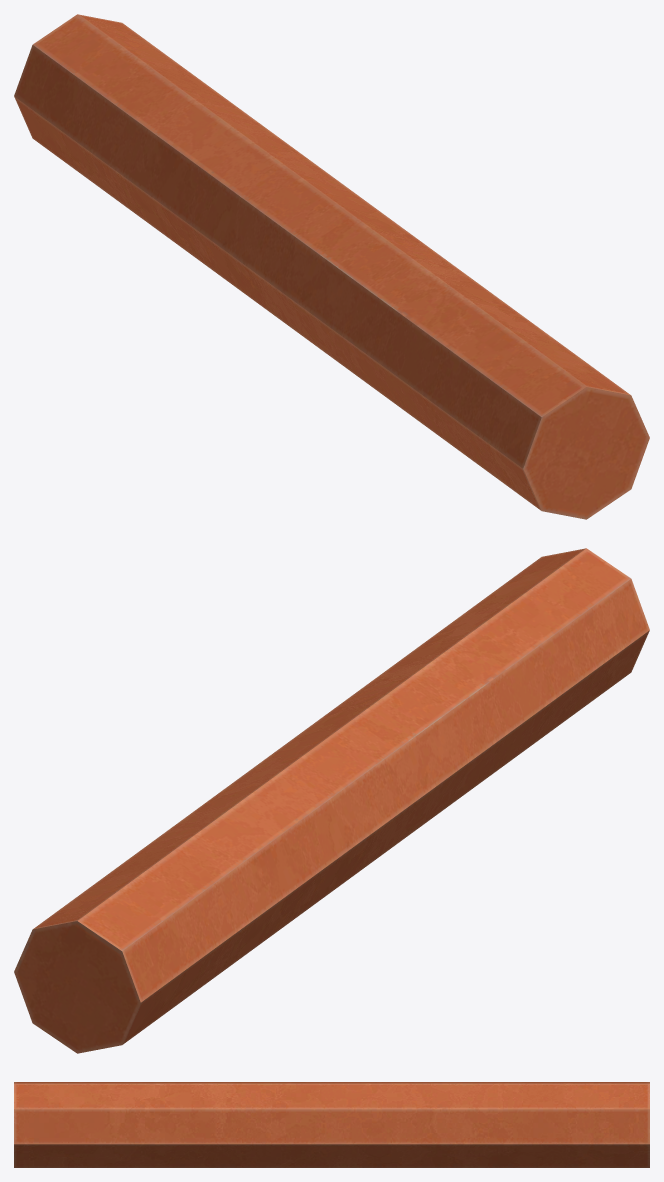
Rendered from CopperRod_Polished.glb.
3 views of the same model, one above another, from view 1: azimuth 30°, elevation 25°; view 2: azimuth 150°, elevation 25°; view 3: azimuth 270°, elevation 25° (orthographic). The views are drawn at different scales.
Visible parts, largest first — view 1: CopperRod_Polished; view 2: CopperRod_Polished; view 3: CopperRod_Polished.
Boxes of the visible parts, box(x1,y1,x2,y2) form: CopperRod_Polished: box(14, 14, 649, 519); CopperRod_Polished: box(14, 548, 649, 1053); CopperRod_Polished: box(14, 1082, 649, 1167).
Bounding box in the file's own units: 0.1162 × 0.1162 × 0.8081.
Materials: 1 (1 with a texture image).
